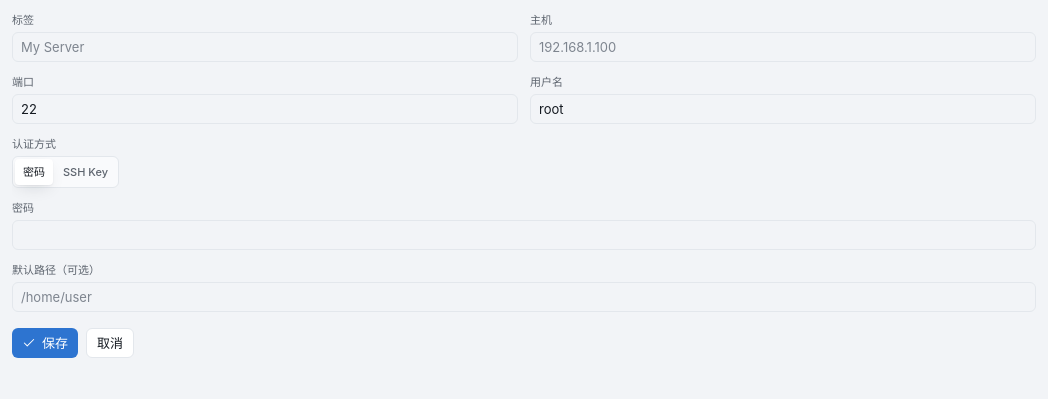
it: SSHConfigForm › only requires the host field
Clear the field labelled "主机". click: x=783, y=47
box: [530,32,1036,62]
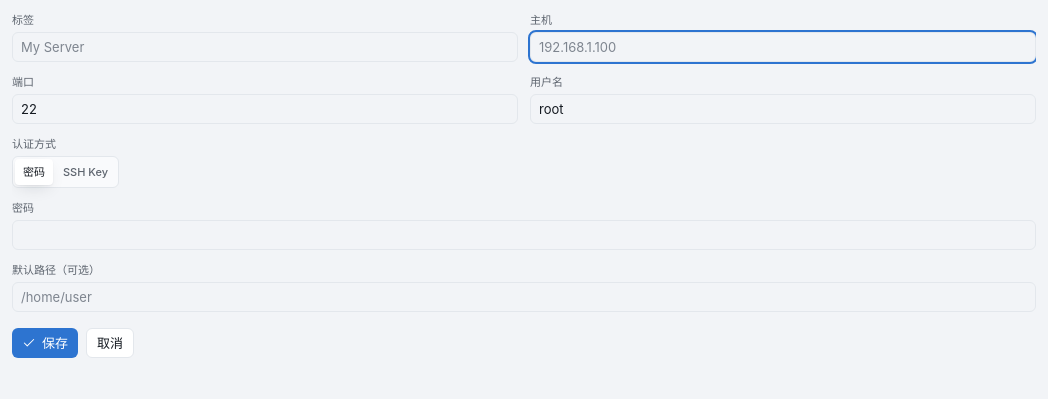
Click the button "保存". click: x=45, y=343
box: [12,328,78,358]
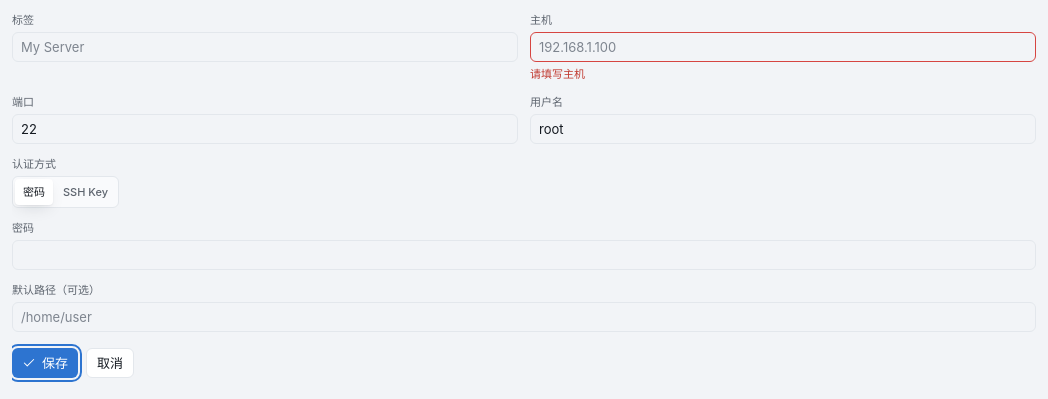
Check: the text "请填写主机" is shown, box [530,67,585,81]
